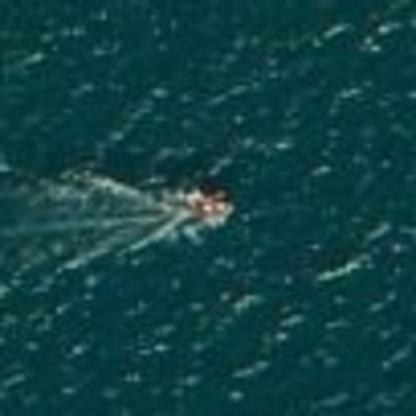ship: (178, 184, 240, 224)
